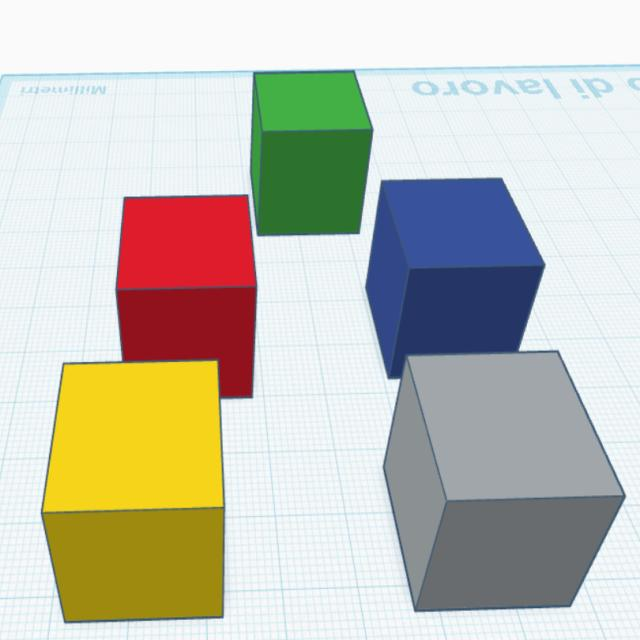cube: (379, 348, 630, 616), (39, 354, 228, 628), (362, 174, 548, 383), (113, 191, 261, 402), (247, 67, 376, 239)
